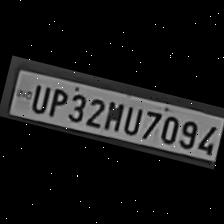0: (154, 111, 182, 145)
2: (81, 92, 107, 128)
3: (61, 88, 88, 124)
4: (193, 119, 219, 154)
7: (136, 105, 162, 141)
9: (174, 114, 200, 149)
M: (100, 96, 126, 132)
P: (42, 82, 68, 120)
U: (118, 101, 144, 137), (25, 80, 50, 114)
